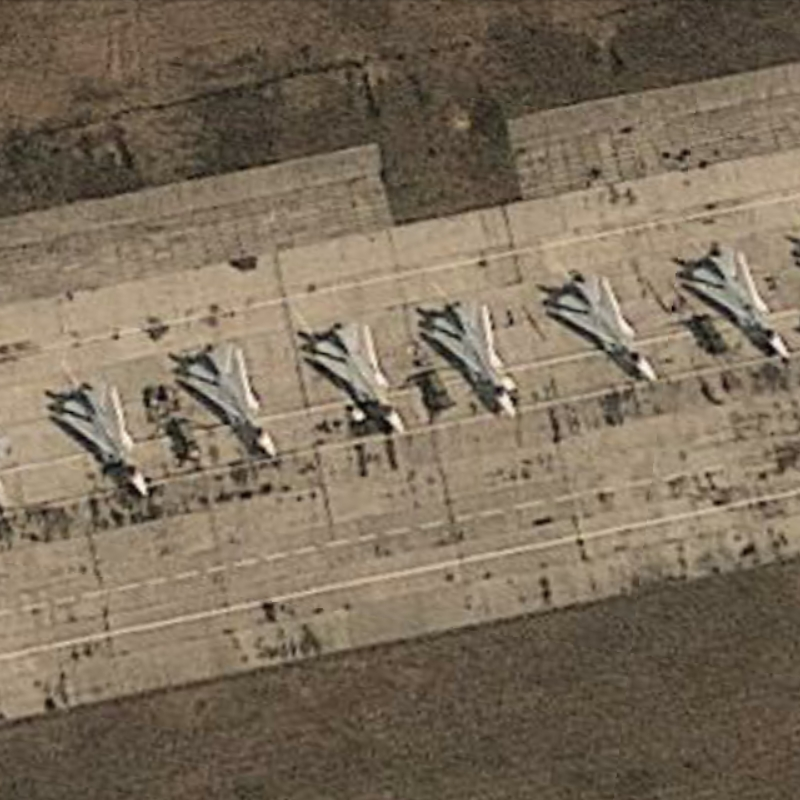A20: (556, 272, 661, 383), (690, 249, 793, 361), (311, 319, 408, 435), (184, 341, 280, 458), (58, 380, 150, 499), (429, 302, 518, 418)
